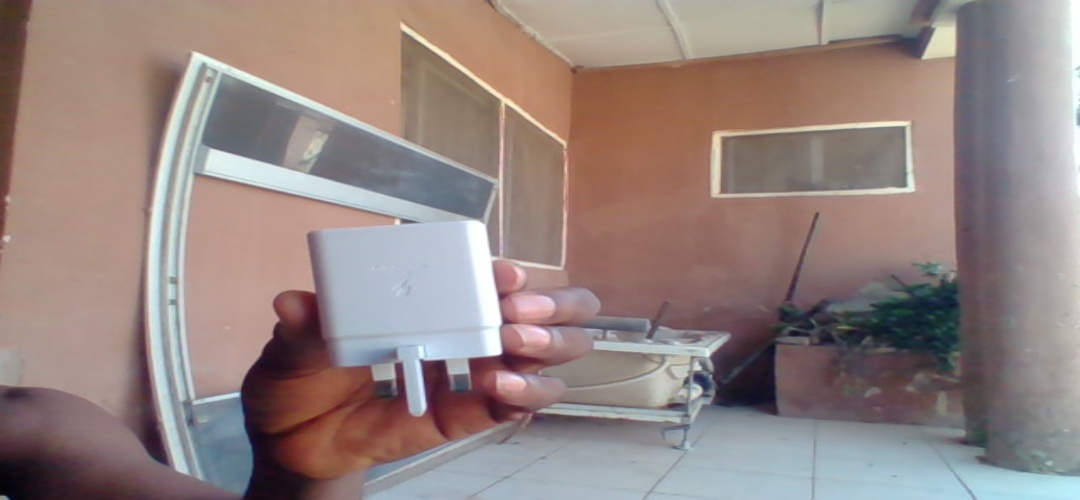phone_charger: (299, 222, 513, 413)
